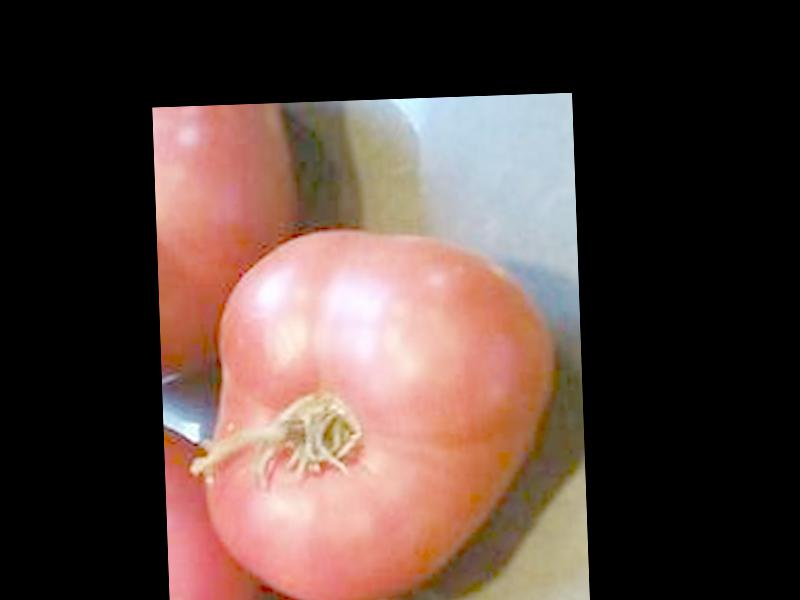Tomato: (197, 222, 559, 600)
